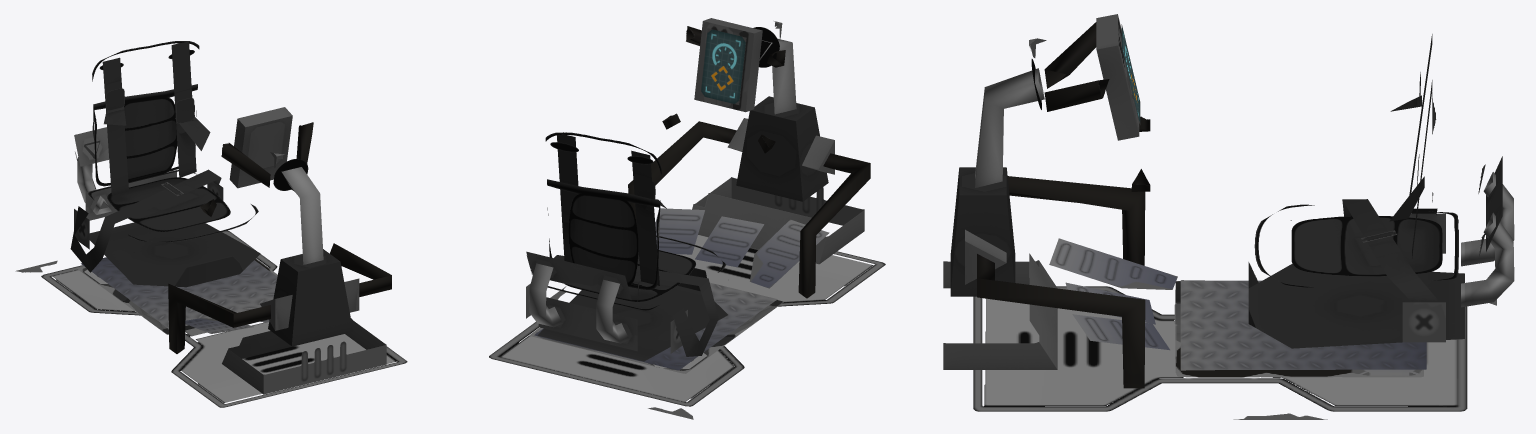
The model's file is obj_interactive_driverseat_02_lod1.fbx.
3 views of the same model, side by side, from view 1: azimuth 30°, elevation 25°; view 2: azimuth 150°, elevation 25°; view 3: azimuth 270°, elevation 25° (orthographic). The views are drawn at different scales.
Parts seen in each view (by area): view 1: obj_interactive_driverseat_02_lod2; view 2: obj_interactive_driverseat_02_lod2; view 3: obj_interactive_driverseat_02_lod2.
Part boxes in pixels (x1,y1,x2,y2): obj_interactive_driverseat_02_lod2: (15,41,407,407); obj_interactive_driverseat_02_lod2: (489,18,885,419); obj_interactive_driverseat_02_lod2: (943,14,1514,419).
Size of the model in its own units: 3.5 by 3.63 by 5.97.
1 material, 1 textured.
